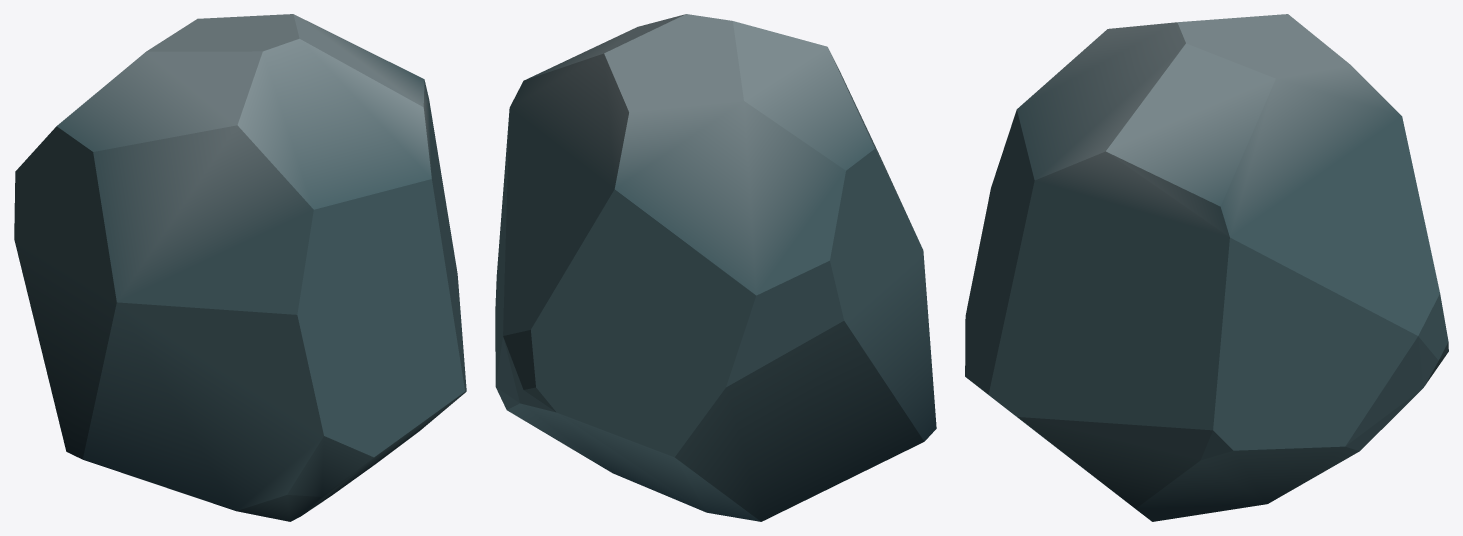
Rendered from Rock 4.fbx.
3 renders of one model, left to right at view 1: azimuth 30°, elevation 25°; view 2: azimuth 150°, elevation 25°; view 3: azimuth 270°, elevation 25°, orthographic. The views are drawn at different scales.
Visible parts, largest first — view 1: Rock 4; view 2: Rock 4; view 3: Rock 4.
Boxes of the visible parts, x1,y1,x2,y2 form: Rock 4: (14, 14, 466, 521); Rock 4: (495, 14, 936, 521); Rock 4: (965, 14, 1448, 521).
Size of the model in its own units: 176 by 186 by 174.
